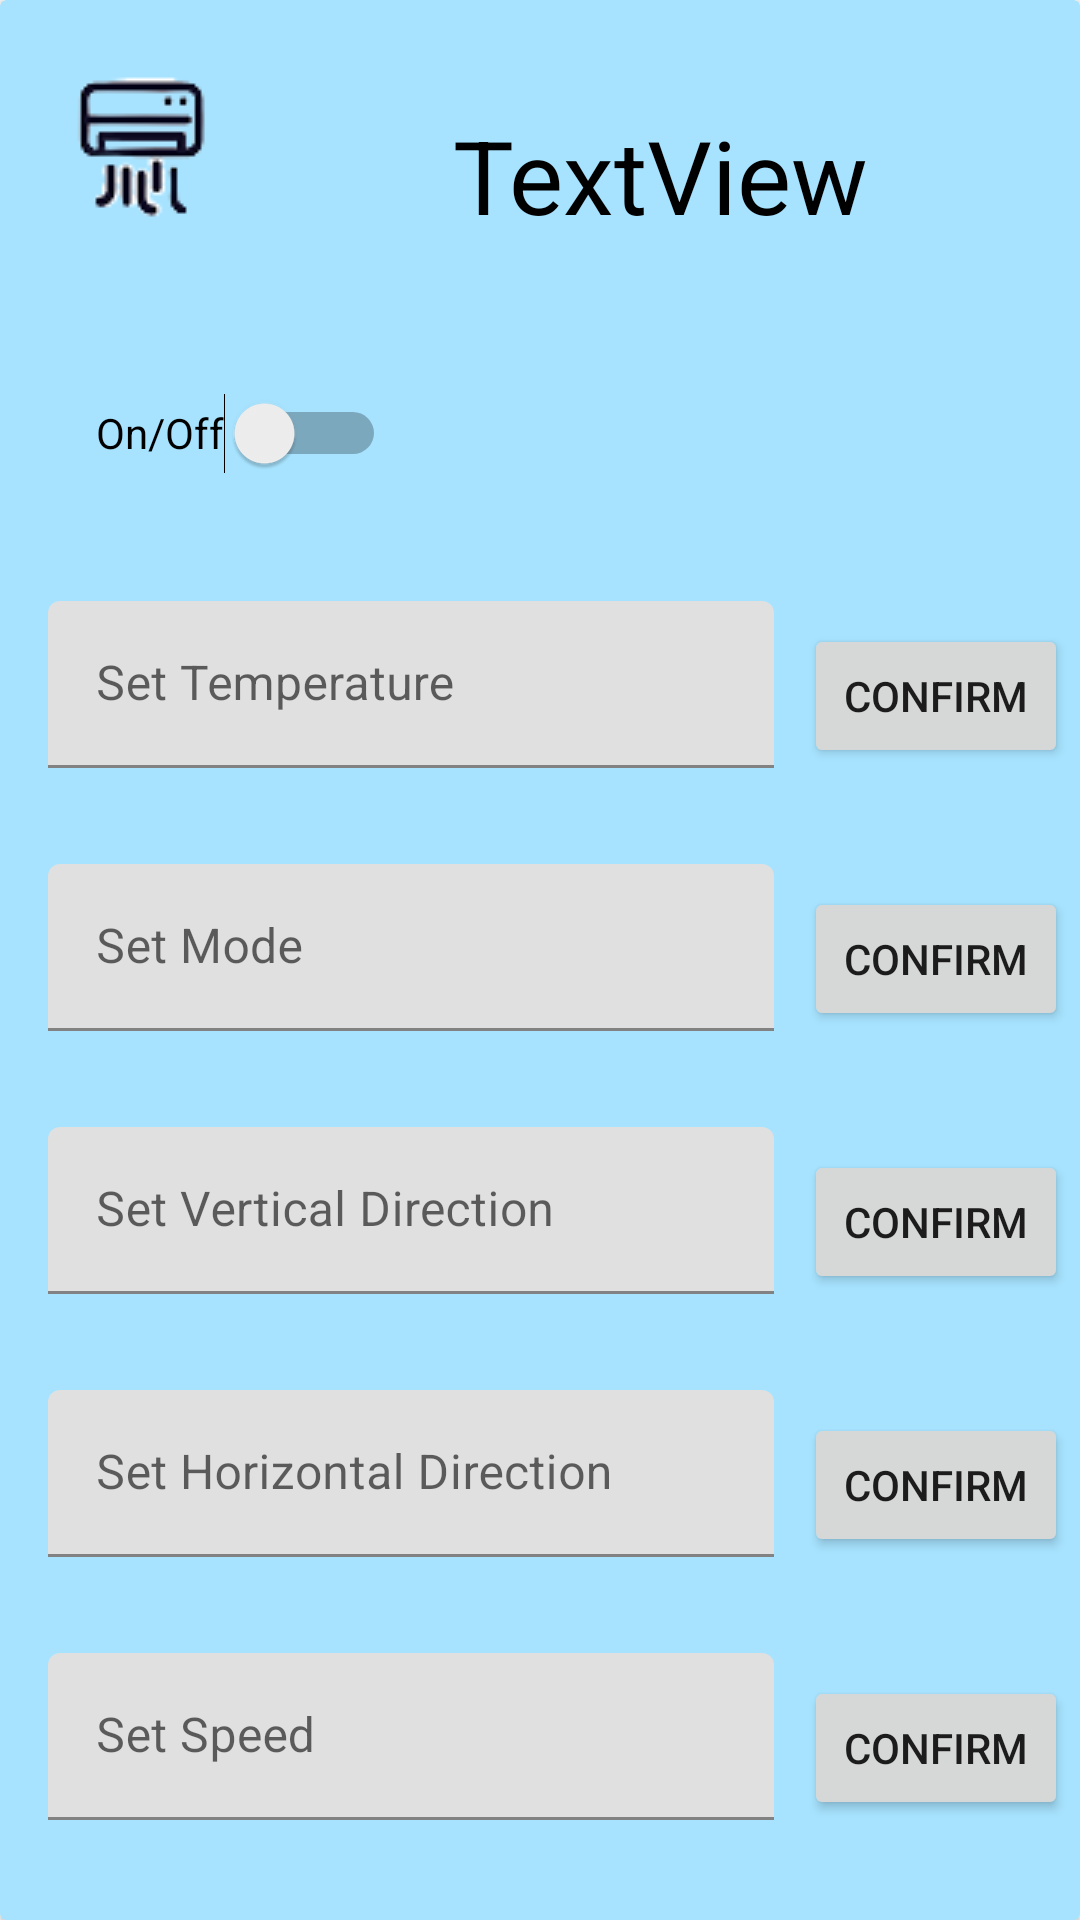

Named icons in this screenshot (1080×1920) and their bounding boxes, bbox(x1, y1, x2, y2):
air: bbox(79, 77, 205, 217)
